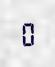zero: (19, 20, 34, 46)
